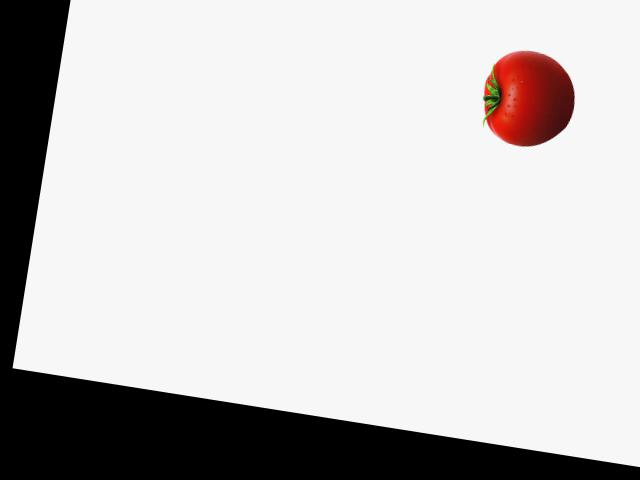tomato: (476, 55, 579, 153)
